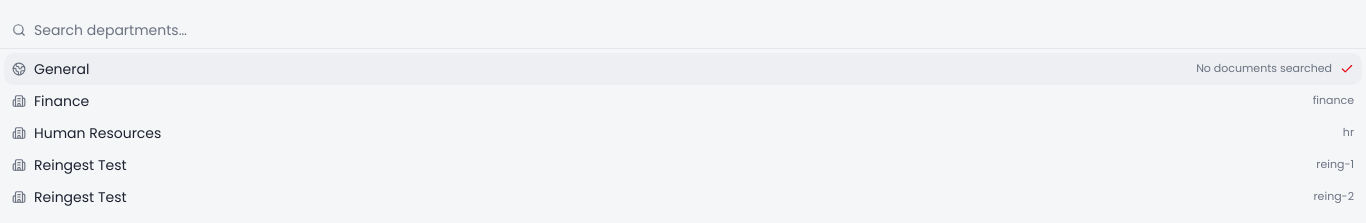
Test: DepartmentScopeList › reports when nothing matches the search
Type "zzz" into the search field labelled "Search departments…" at (694, 30), box x1=34 y1=12 x2=1354 y2=48
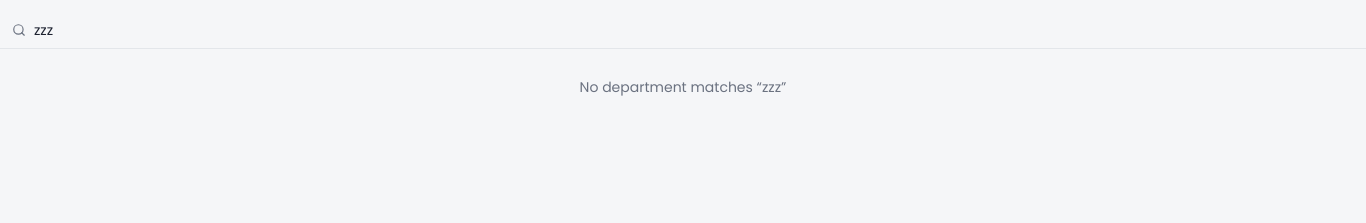
expect no options are shown: met
expect the text "No department matches “zzz”" is shown: met, box x1=580 y1=77 x2=786 y2=97
